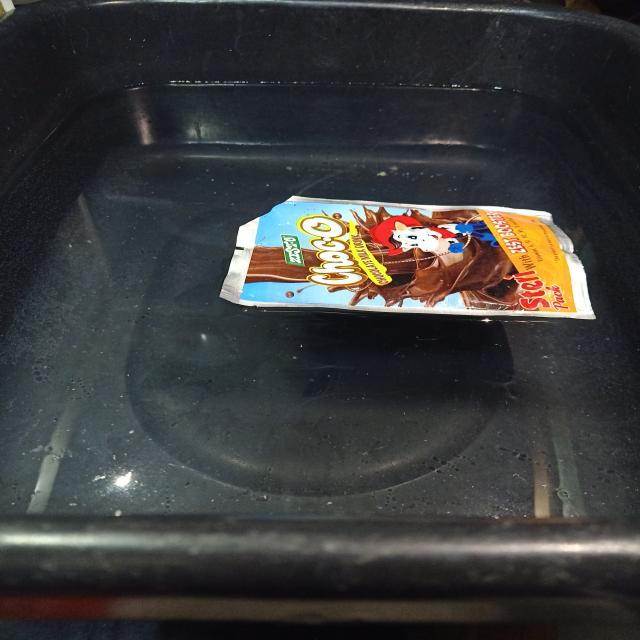Plastic Pouch: (221, 196, 593, 318)
